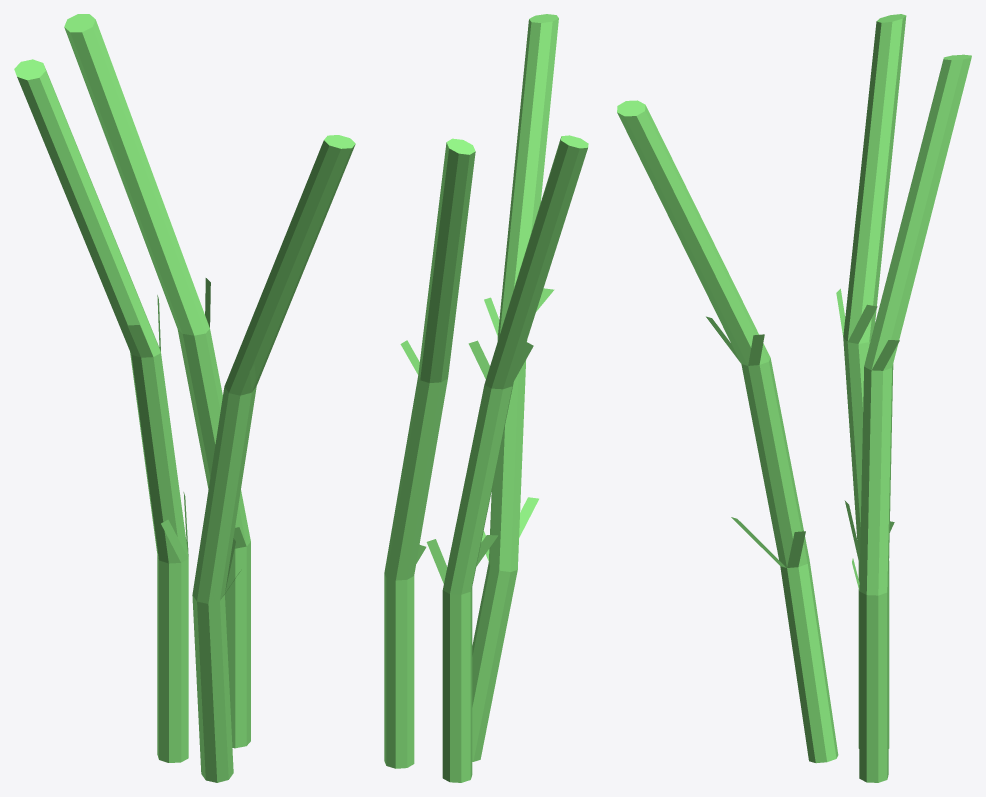
File: Bambooes.fbx
3 renders of one model, left to right at view 1: azimuth 30°, elevation 25°; view 2: azimuth 150°, elevation 25°; view 3: azimuth 270°, elevation 25°, orthographic. The views are drawn at different scales.
Visible parts, largest first — view 1: Cylinder.012; view 2: Cylinder.012; view 3: Cylinder.012.
Part boxes in pixels (x1,y1,x2,y2): Cylinder.012: (14,14,355,782); Cylinder.012: (384,14,588,782); Cylinder.012: (617,14,971,782).
Bounding box in the file's own units: 112 × 346 × 164.
